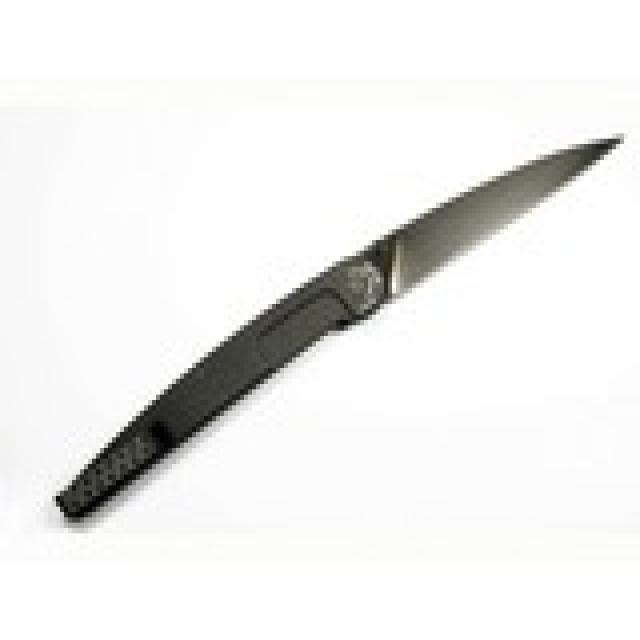Knife: (39, 129, 626, 535)
